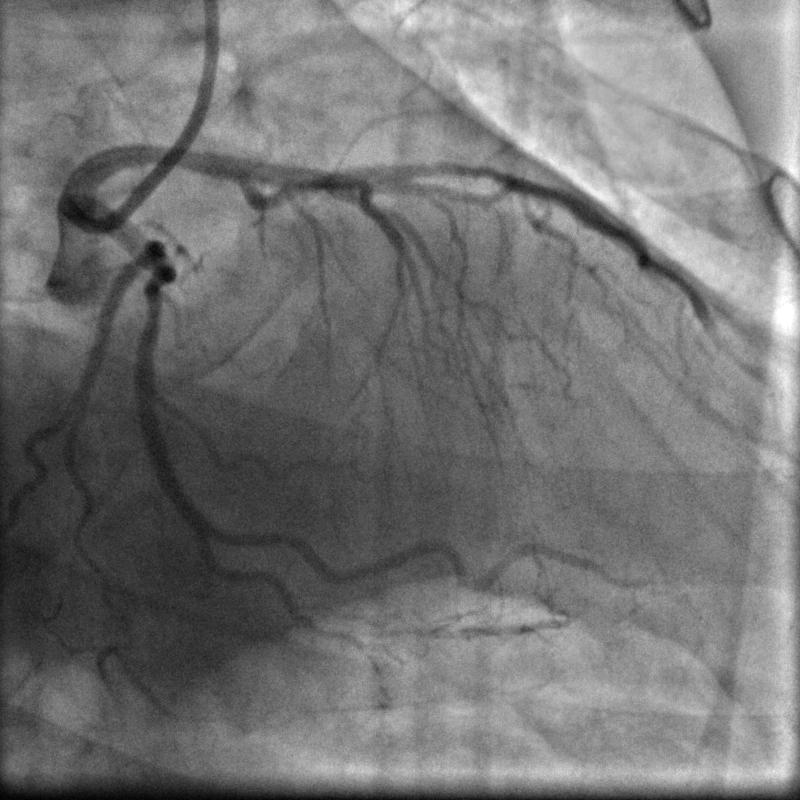Stenosis: (137, 249, 175, 315)
